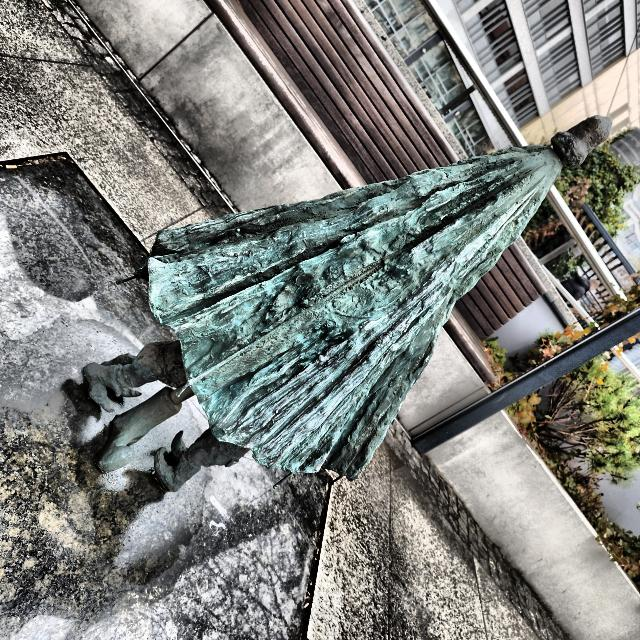Parasolniki: (82, 113, 611, 492)
